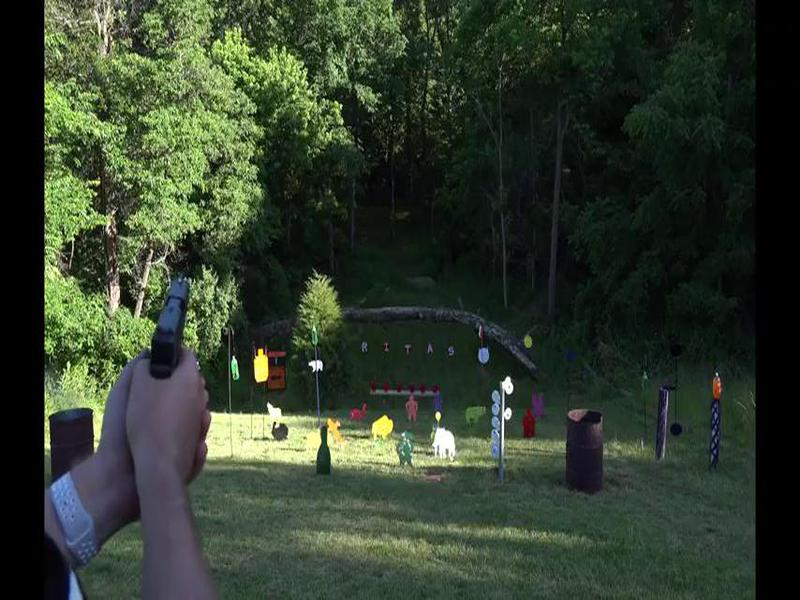Pistola: (133, 274, 207, 402)
